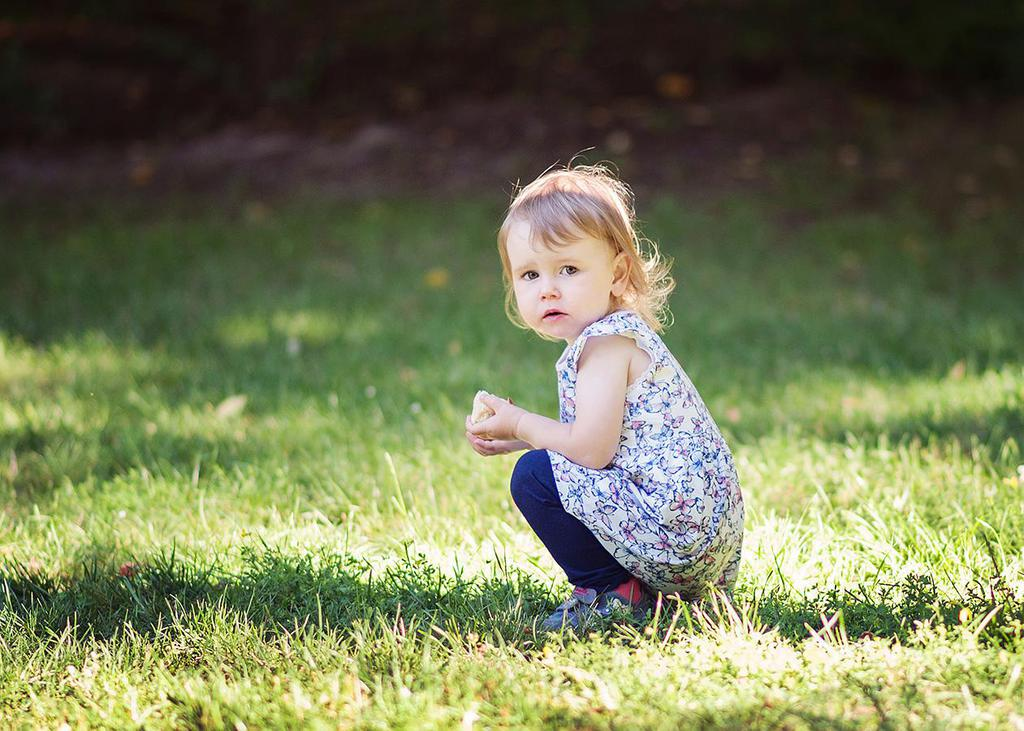child: (424, 158, 772, 649)
